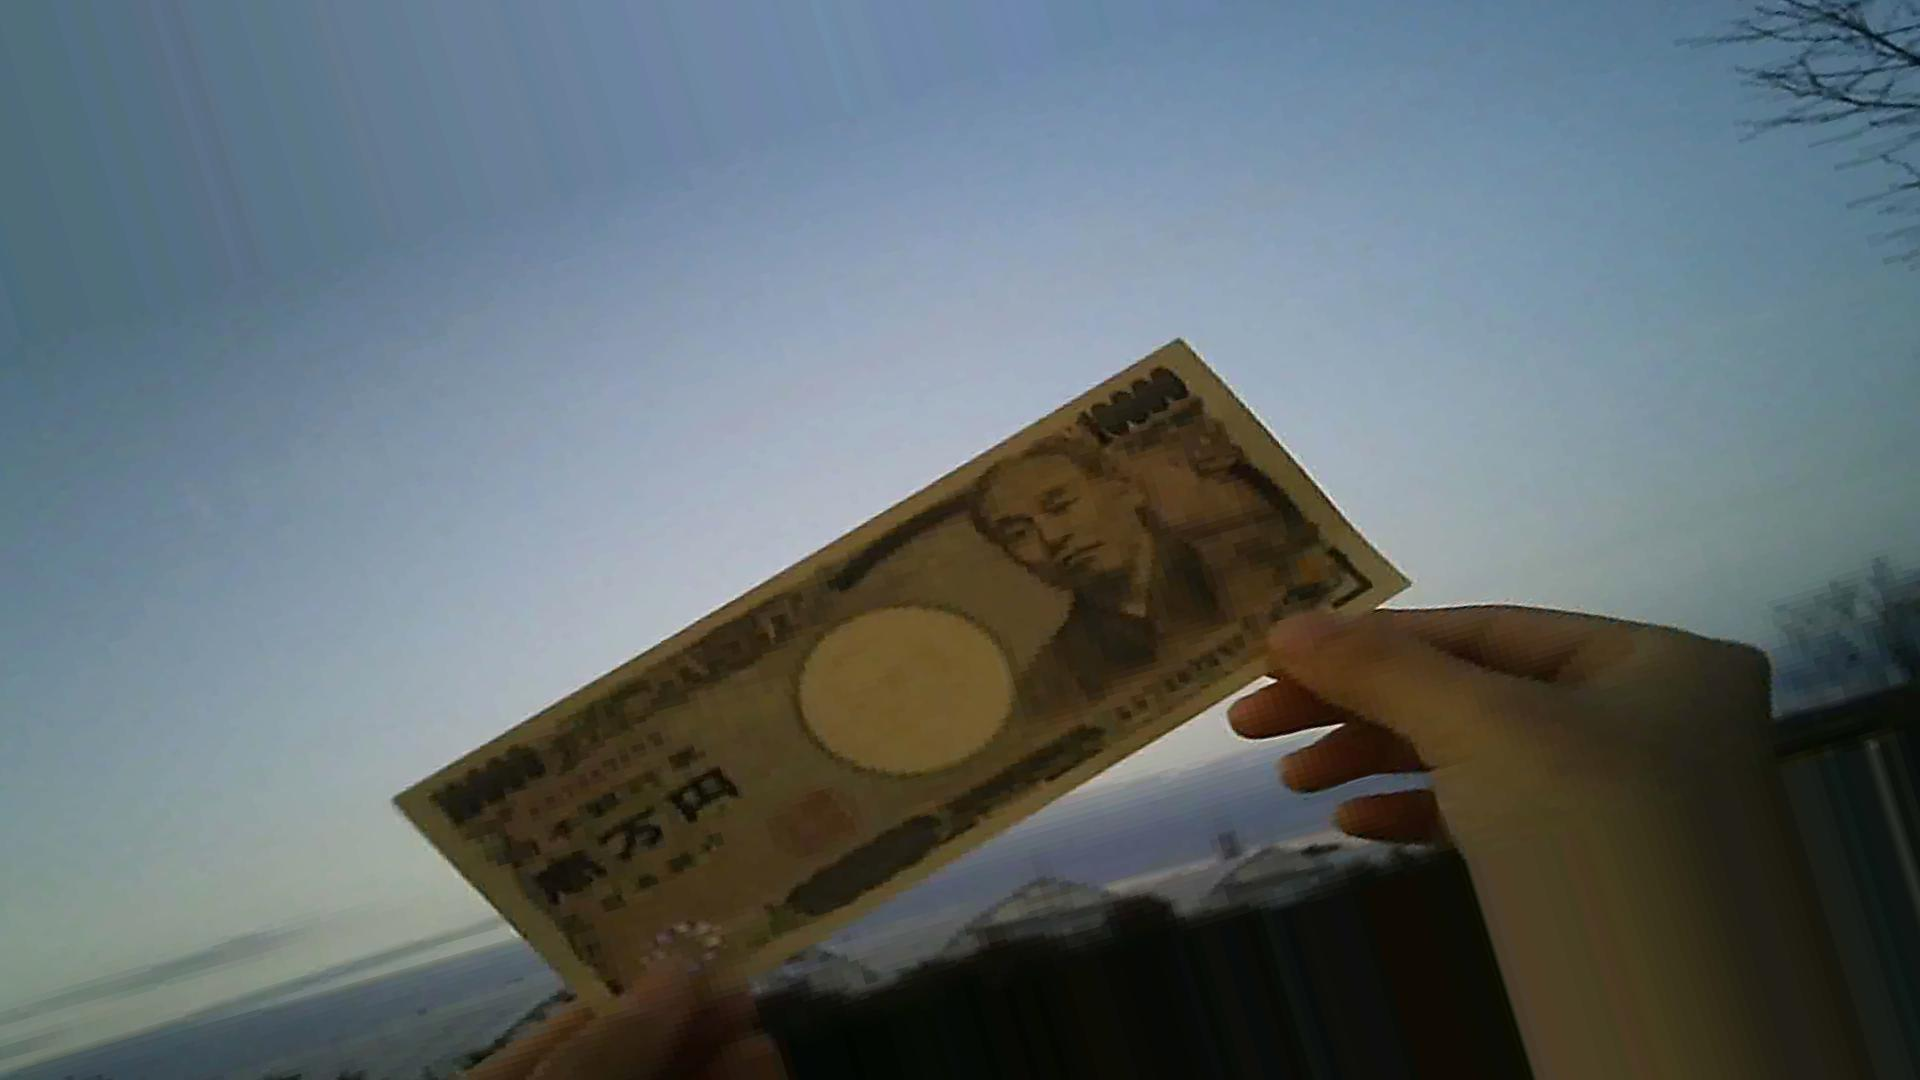10,000 Yen: (384, 302, 1386, 1030)
